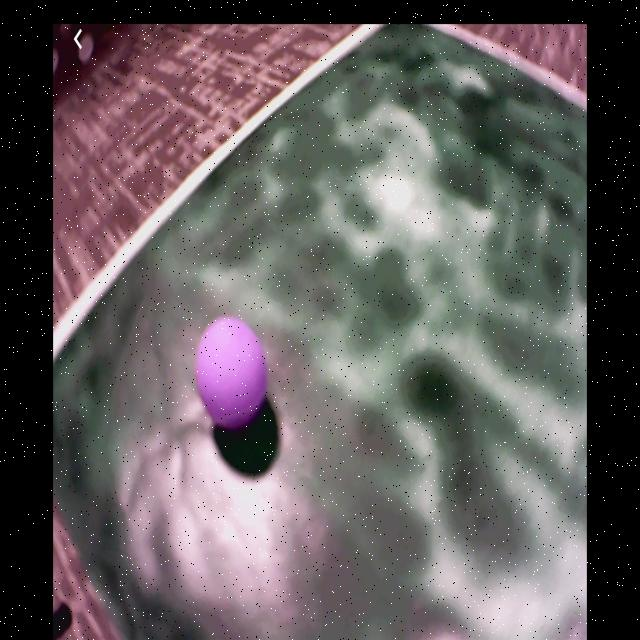ball: (197, 319, 266, 429)
